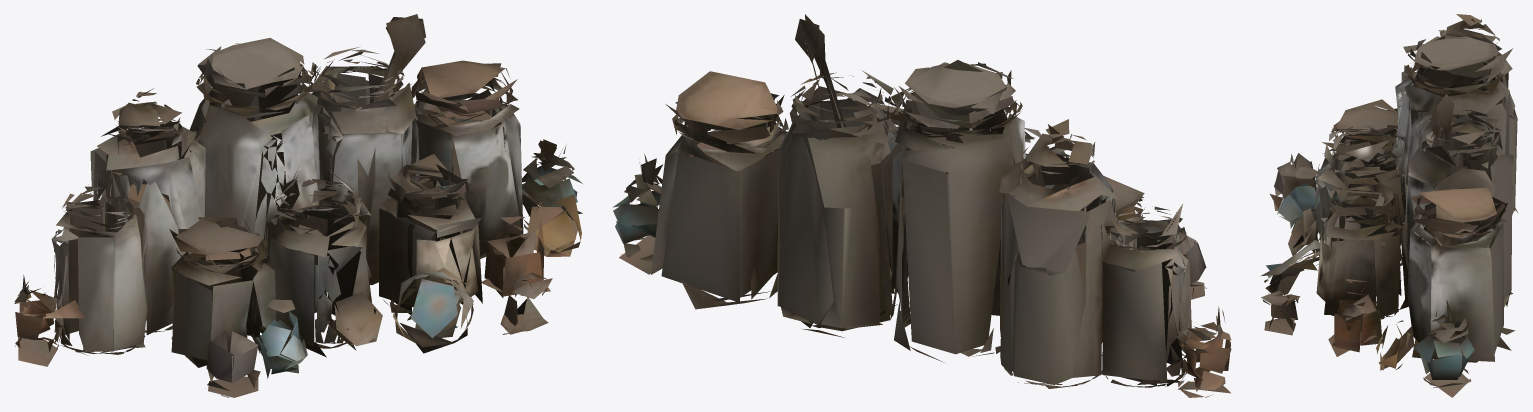
File: jars_lod2.glb
3 renders of one model, left to right at view 1: azimuth 30°, elevation 25°; view 2: azimuth 150°, elevation 25°; view 3: azimuth 270°, elevation 25°, orthographic. The views are drawn at different scales.
Parts seen in each view (by area): view 1: node_0; view 2: node_0; view 3: node_0.
Part boxes in pixels (x1,y1,x2,y2): node_0: [14, 14, 582, 397]; node_0: [612, 14, 1231, 397]; node_0: [1260, 14, 1518, 397].
Bounding box in the file's own units: 2.34 × 1.04 × 1.05.
1 material, 1 textured.
